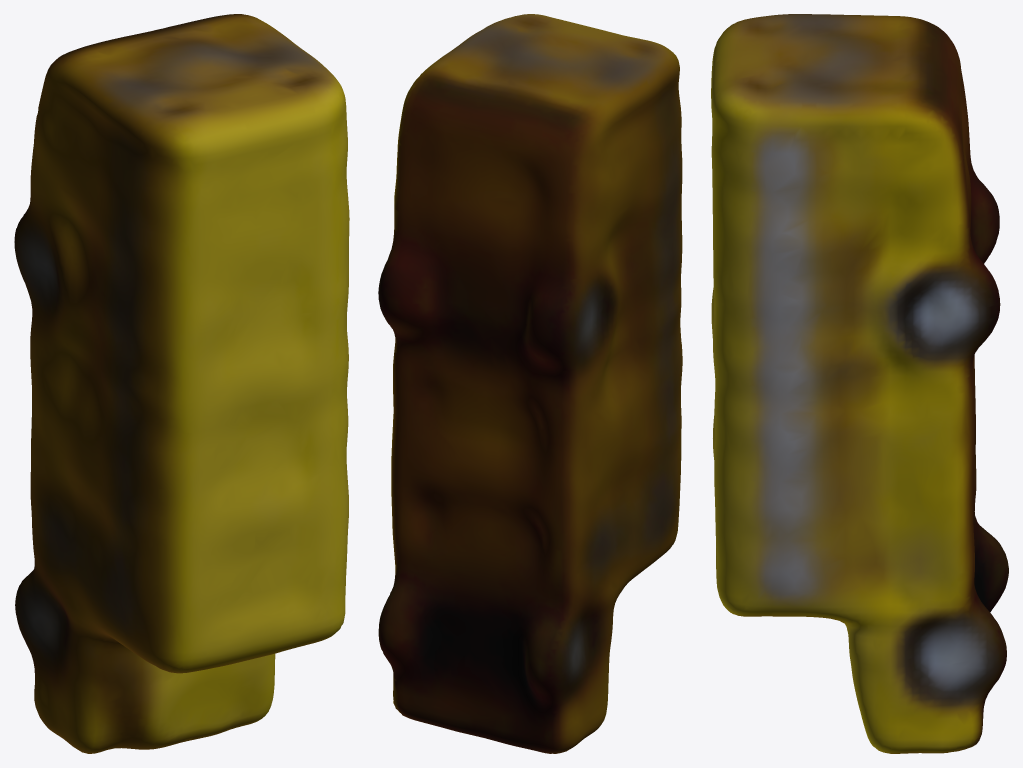
File: school_bus1.glb
3 views of the same model, side by side, from view 1: azimuth 30°, elevation 25°; view 2: azimuth 150°, elevation 25°; view 3: azimuth 270°, elevation 25° (orthographic). The views are drawn at different scales.
Size of the model in its own units: 0.325 by 0.9999 by 0.403.
